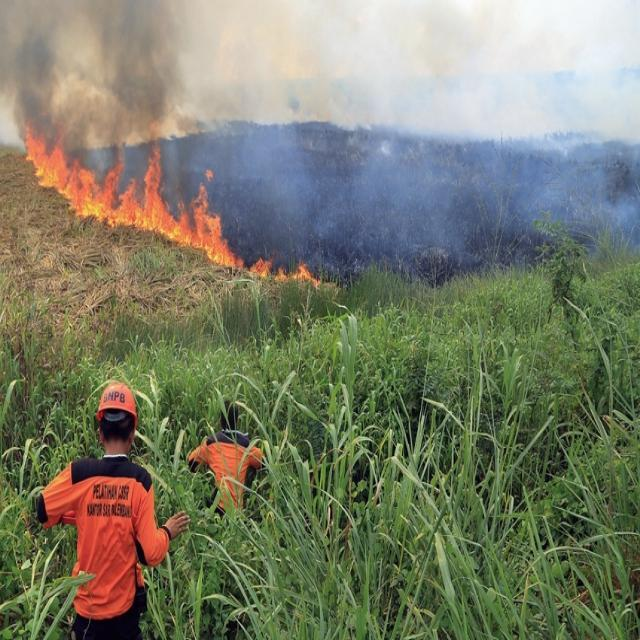Fire: (24, 123, 226, 289), (215, 242, 336, 298)
Smoke: (232, 1, 638, 252), (2, 1, 196, 148)
